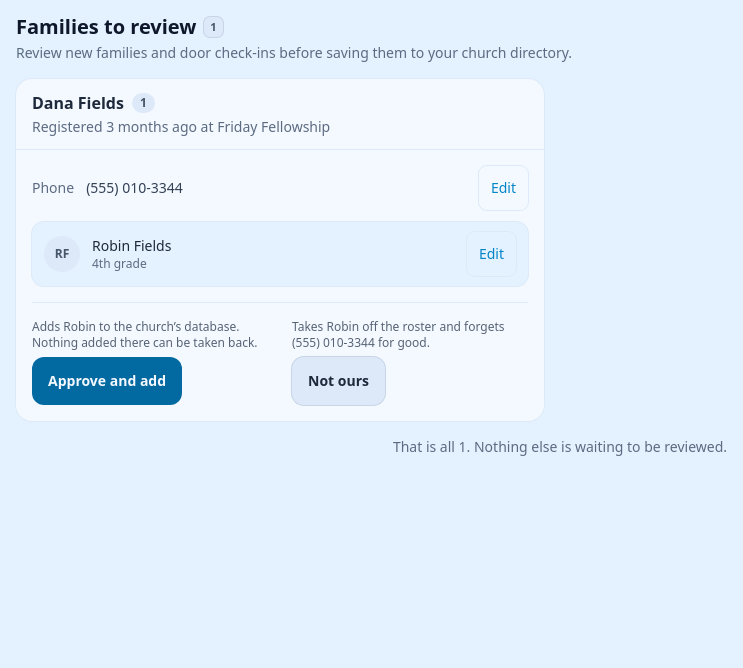
Test: correcting what the family typed › refuses a digit in a name without asking the server
Click the button with aria-label "Edit Robin Fields" at [491, 254], box [467,232,516,276]
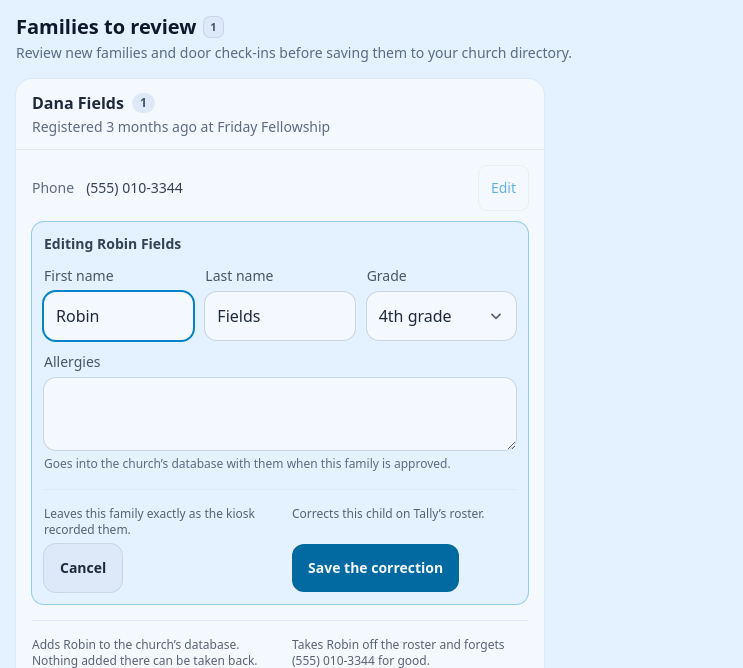
Replace the text in the field labelled "First name" with "Room 3" at [119, 316], box [44,292,193,340]
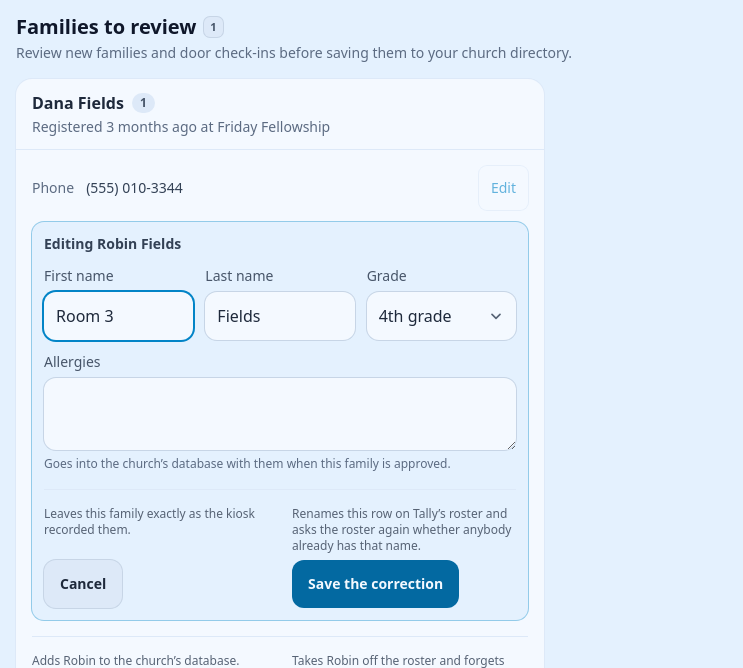
Click the button "Save the correction" at [376, 584], box [292,560,459,608]
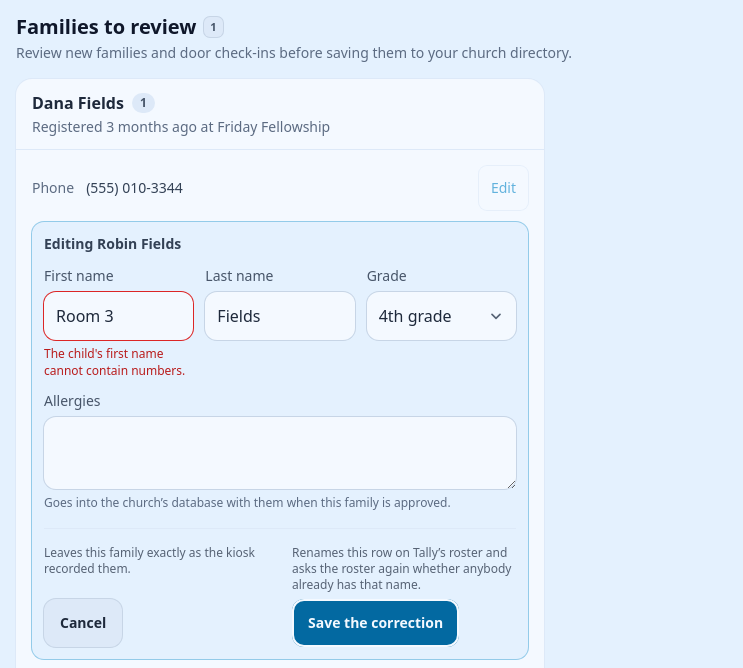
Expected: the text "The child's first name cannot contain numbers." is shown, [44,346,193,379]
